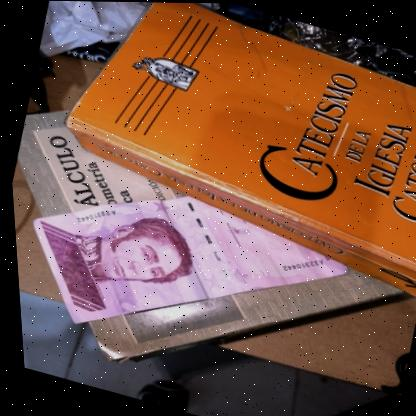one_hundred-front-vef: (8, 154, 358, 392)
